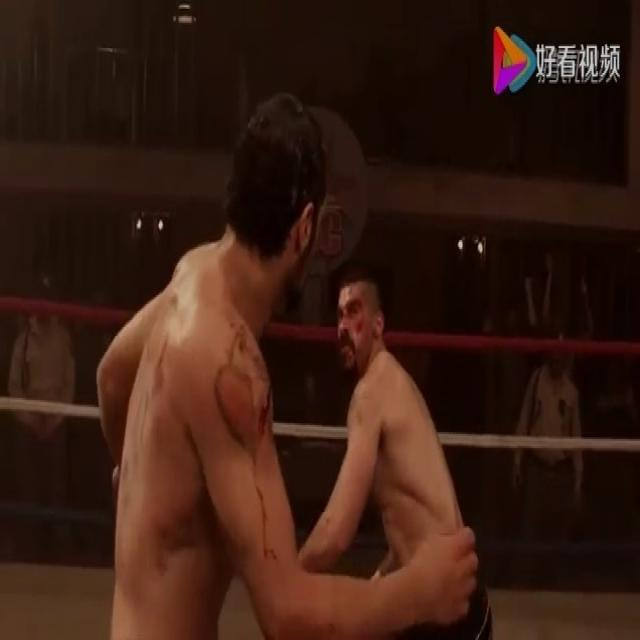fight: (63, 70, 526, 638)
